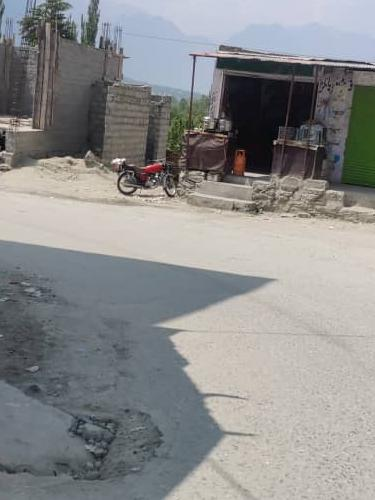left_turn: (0, 90, 338, 345)
